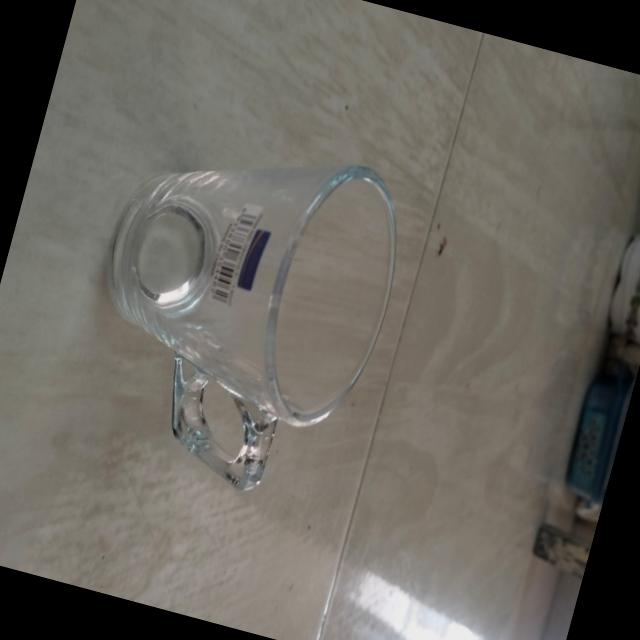glass-VX4N: (57, 106, 423, 516)
